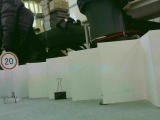speed_20: (1, 51, 18, 71)
